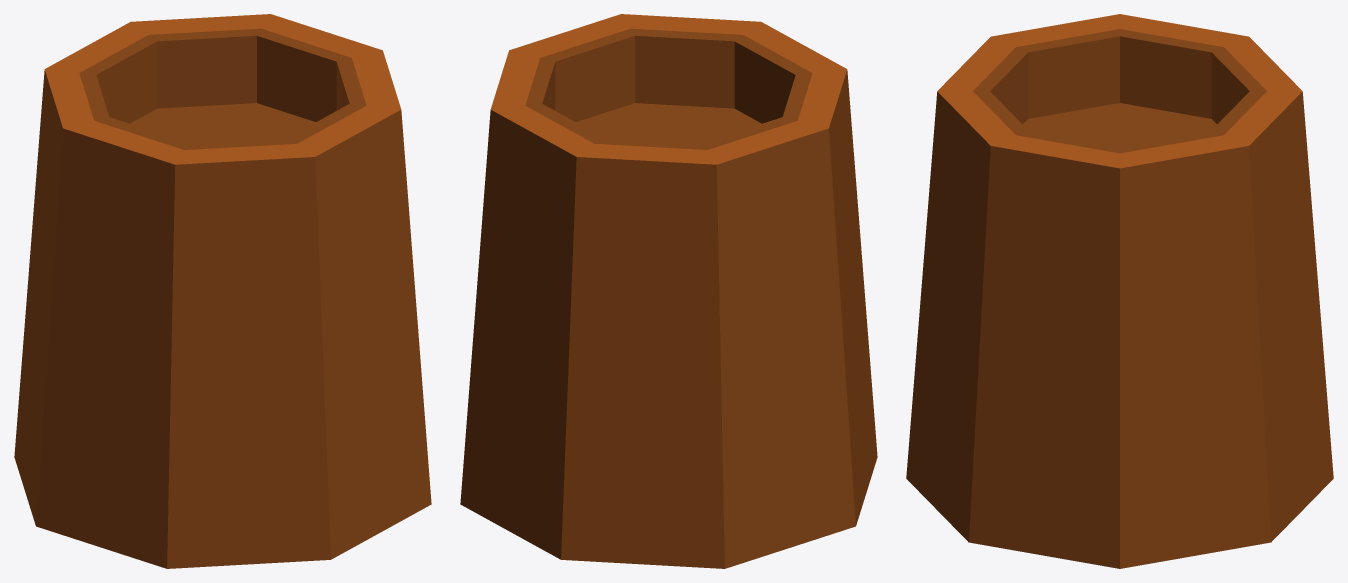
The model's file is Koren.fbx.
3 views of the same model, side by side, from view 1: azimuth 30°, elevation 25°; view 2: azimuth 150°, elevation 25°; view 3: azimuth 270°, elevation 25° (orthographic).
Visible parts, largest first — view 1: parez; view 2: parez; view 3: parez.
Part boxes in pixels (x1,y1,x2,y2): parez: (14,14,431,568); parez: (460,14,877,568); parez: (906,14,1333,568).
Size of the model in its own units: 200 by 200 by 200.
